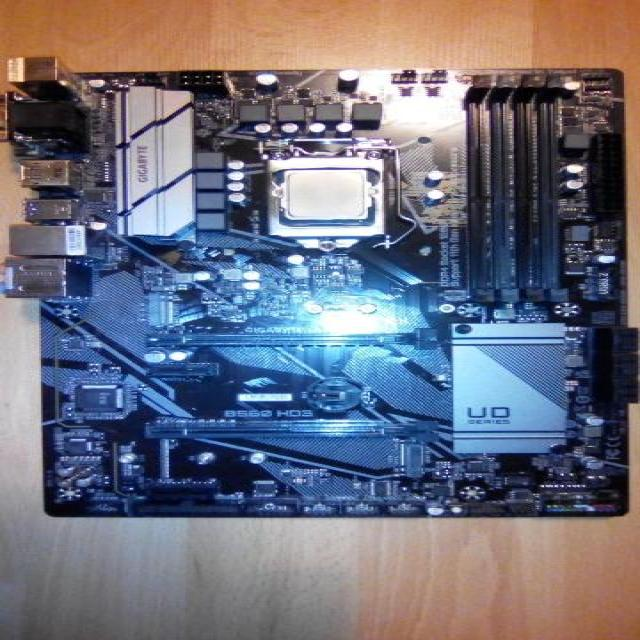CPU: (284, 170, 371, 220)
